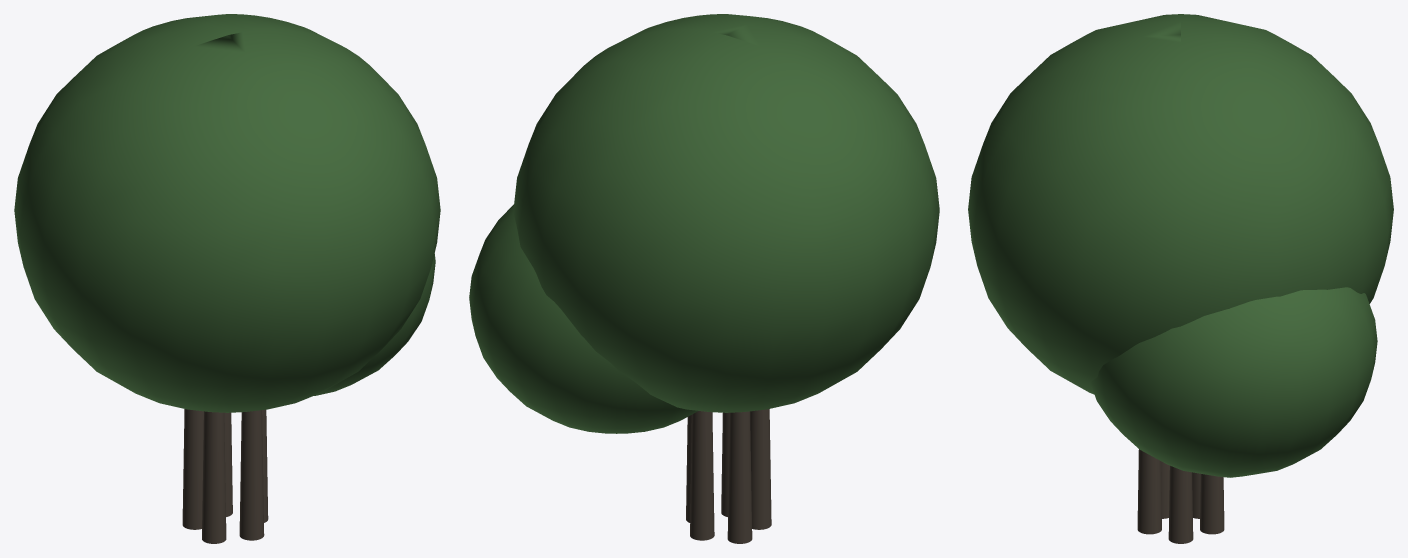
The model's file is e09-alder-scrub.glb.
The picture shows the model from 3 angles, left to right: view 1: azimuth 30°, elevation 25°; view 2: azimuth 150°, elevation 25°; view 3: azimuth 270°, elevation 25°; orthographic projection.
Visible parts, largest first — view 1: part5, part3, part4, part2, part6, part1, part0; view 2: part5, part6, part2, part1, part3, part4; view 3: part5, part6, part4, part0, part1.
Boxes of the visible parts, left/top/right/bottom form: part5: left=14, top=14, right=440, bottom=412; part3: left=202, top=411, right=226, bottom=543; part4: left=239, top=410, right=264, bottom=540; part2: left=182, top=409, right=203, bottom=529; part6: left=314, top=254, right=435, bottom=395; part1: left=224, top=412, right=232, bottom=516; part0: left=262, top=409, right=268, bottom=522; part5: left=513, top=14, right=939, bottom=412; part6: left=469, top=204, right=697, bottom=433; part2: left=727, top=411, right=752, bottom=543; part1: left=690, top=411, right=714, bottom=540; part3: left=750, top=409, right=771, bottom=529; part4: left=721, top=412, right=729, bottom=516; part5: left=968, top=14, right=1393, bottom=394; part6: left=1090, top=287, right=1377, bottom=477; part4: left=1137, top=449, right=1161, bottom=534; part0: left=1168, top=465, right=1193, bottom=543; part1: left=1200, top=474, right=1224, bottom=534.
Size of the model in its own units: 5600 by 6600 by 5196.
